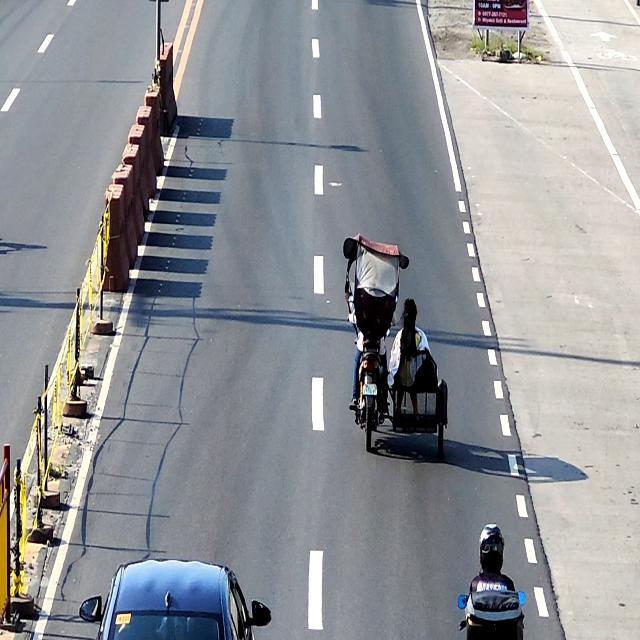Car: (80, 559, 272, 640)
License-Plate: (362, 384, 378, 396)
Tricycle: (346, 283, 448, 459)
